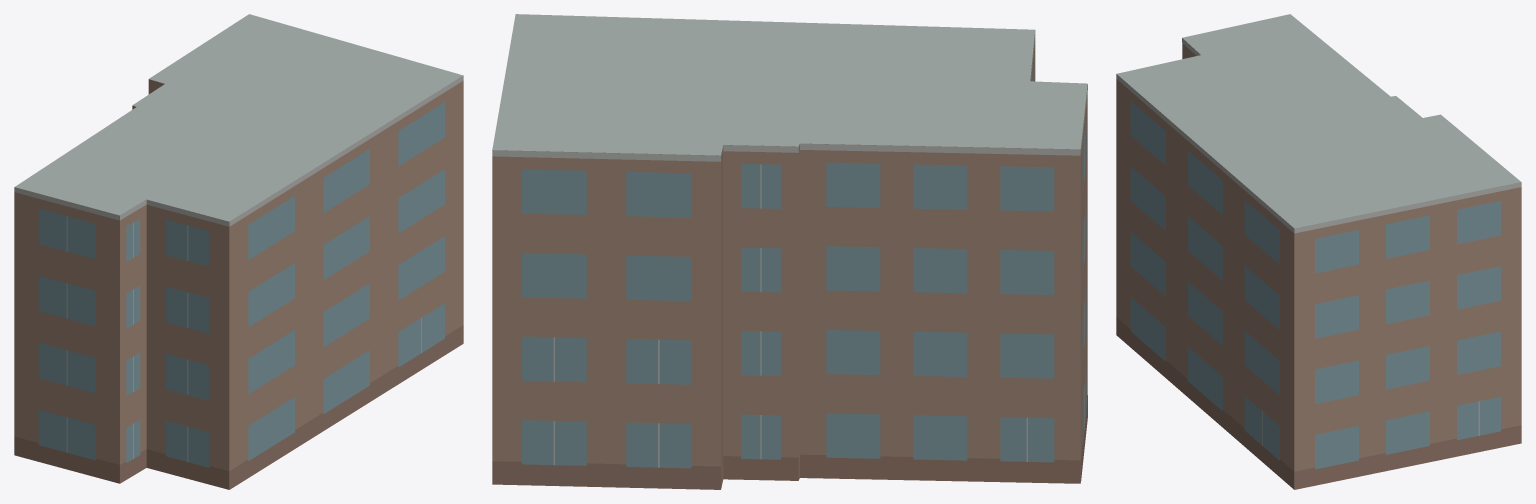
The model's file is survey-upis-33046684.glb.
3 views of the same model, side by side, from view 1: azimuth 30°, elevation 25°; view 2: azimuth 150°, elevation 25°; view 3: azimuth 270°, elevation 25° (orthographic). The views are drawn at different scales.
Visible parts, largest first — view 1: survey-upis-33046684.tmp; view 2: survey-upis-33046684.tmp; view 3: survey-upis-33046684.tmp.
Boxes of the visible parts, x1=… form: survey-upis-33046684.tmp: x1=14, y1=14, x2=463, y2=489; survey-upis-33046684.tmp: x1=492, y1=14, x2=1087, y2=489; survey-upis-33046684.tmp: x1=1116, y1=14, x2=1521, y2=489.
Size of the model in its own units: 22.72 by 12.9 by 18.13.
